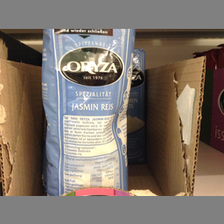rice: (42, 29, 136, 195)
